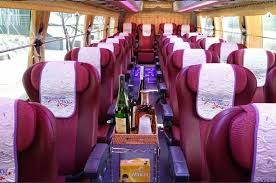seat: (30, 63, 103, 177)
